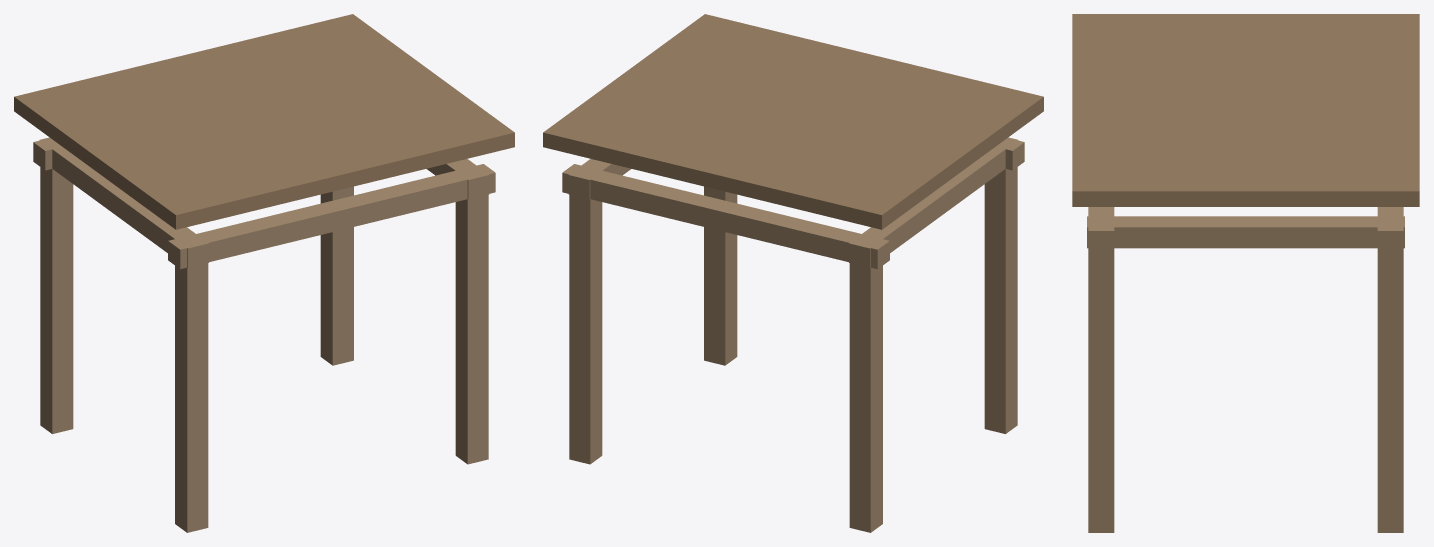
File: hut_frame_small.glb
3 renders of one model, left to right at view 1: azimuth 30°, elevation 25°; view 2: azimuth 150°, elevation 25°; view 3: azimuth 270°, elevation 25°, orthographic. The views are drawn at different scales.
Parts seen in each view (by area): view 1: world; view 2: world; view 3: world.
Boxes of the visible parts, x1,y1,x2,y2 form: world: (14,14,514,532); world: (543,14,1043,532); world: (1072,14,1419,532).
Bounding box in the file's own units: 2.9 × 2.68 × 2.4.
